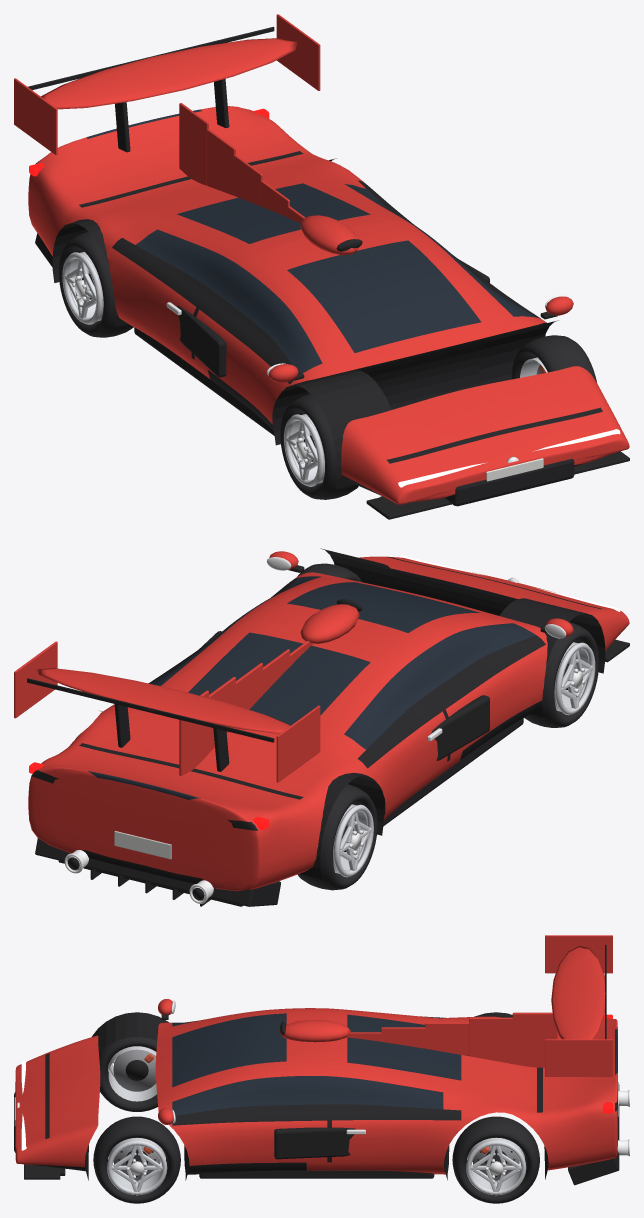
File: vortex_mid.glb
The picture shows the model from 3 angles, top to bottom: view 1: azimuth 30°, elevation 25°; view 2: azimuth 150°, elevation 25°; view 3: azimuth 270°, elevation 25°; orthographic projection. The views are drawn at different scales.
Parts seen in each view (by area): view 1: body, wheel_fr, wheel_rr, wheel_fl; view 2: body, wheel_rr, wheel_fr, wheel_fl; view 3: body, wheel_fl, wheel_rl, wheel_fr.
Part boxes in pixels (<box>): body: <box>14,14,629,519</box>; wheel_fr: <box>280,394,358,499</box>; wheel_rr: <box>58,231,133,337</box>; wheel_fl: <box>511,335,596,382</box>; body: <box>14,548,629,906</box>; wheel_rr: <box>297,784,377,890</box>; wheel_fr: <box>524,622,599,727</box>; wheel_fl: <box>297,563,361,581</box>; body: <box>14,935,629,1185</box>; wheel_fl: <box>93,1116,180,1203</box>; wheel_rl: <box>452,1116,539,1203</box>; wheel_fr: <box>99,1037,157,1111</box>.
Size of the model in its own units: 2.33 by 1.51 by 5.06.
